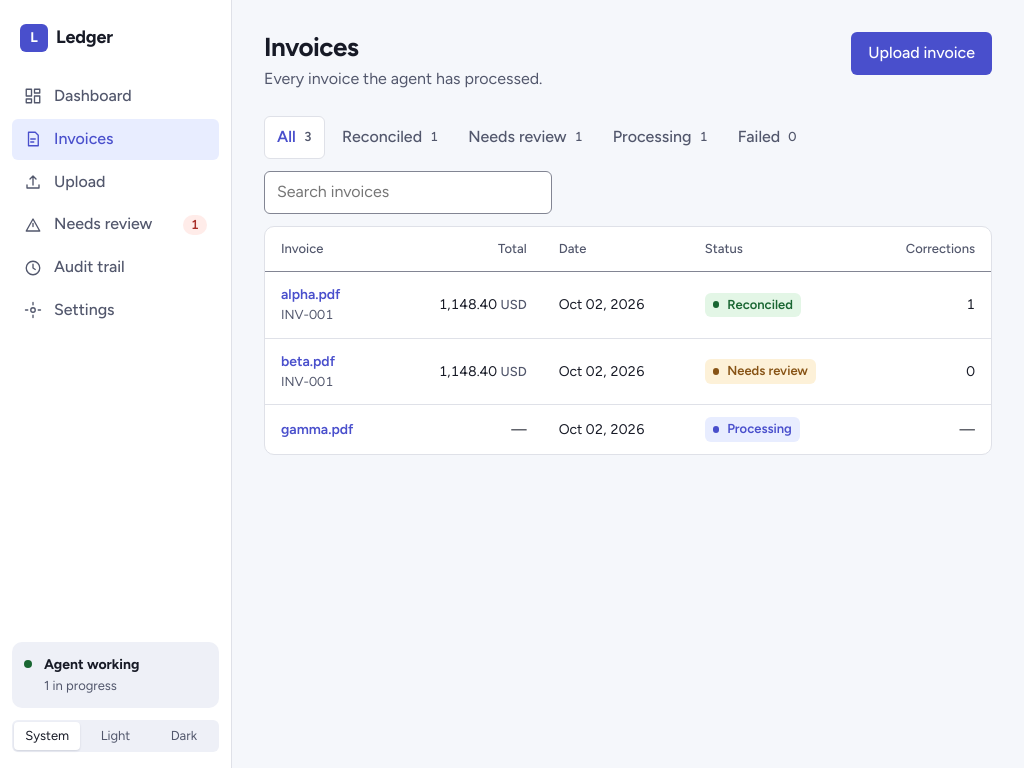
it: InvoicesView › says so when a filter matches nothing
In the search field labelled "Search invoices": (408, 192) left=264, top=171, right=552, bottom=214, type "zzz"
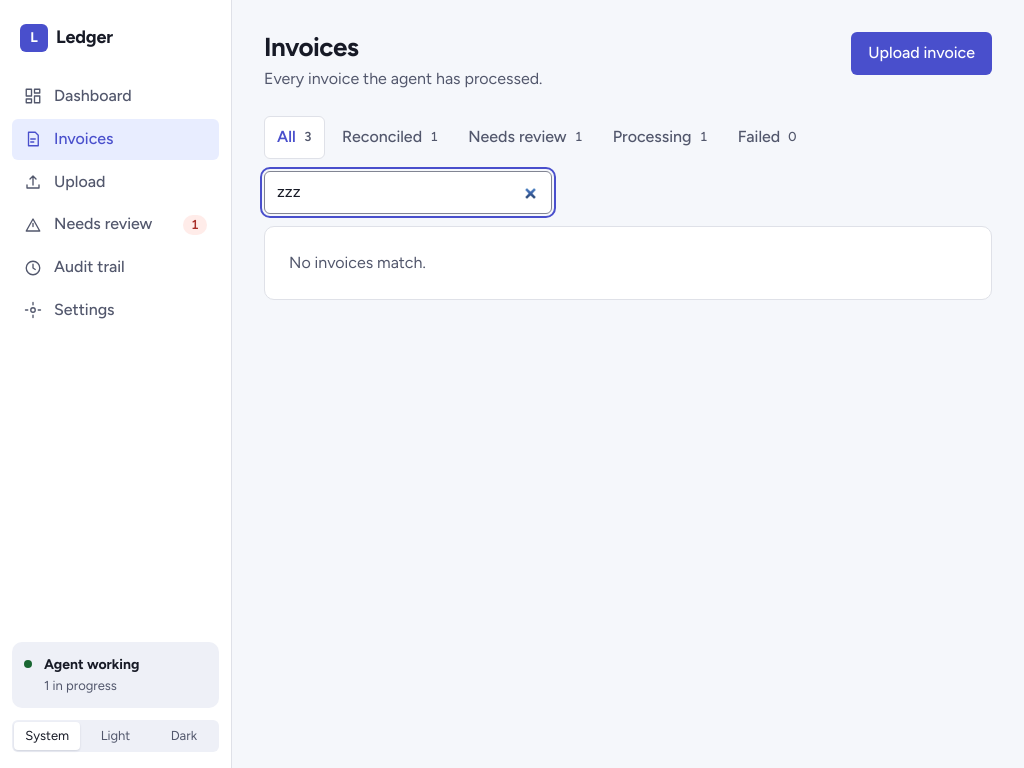
expect the text "No invoices match." is shown: met, box left=289, top=253, right=426, bottom=272
